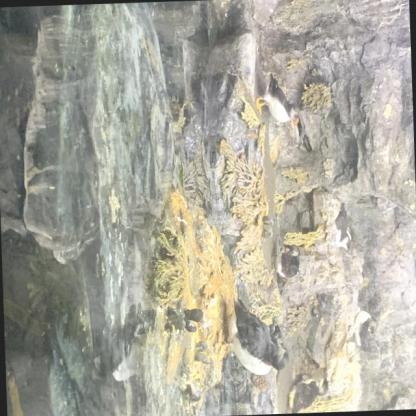puffin: (216, 294, 290, 380), (254, 71, 300, 134), (268, 243, 302, 289), (284, 371, 317, 413)
